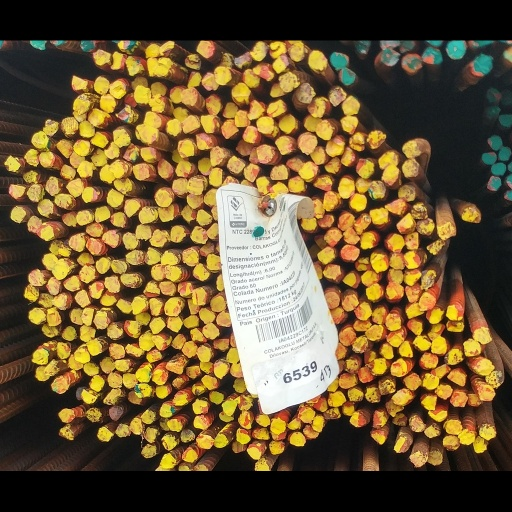dipstick: (378, 143, 402, 173), (398, 12, 422, 41), (469, 14, 493, 42), (114, 71, 138, 98), (368, 250, 393, 275), (124, 15, 146, 43), (366, 102, 388, 130), (296, 108, 317, 137), (135, 98, 160, 122), (321, 177, 345, 202), (230, 49, 253, 75), (401, 114, 423, 141), (306, 9, 327, 37), (274, 112, 297, 137), (339, 64, 362, 89), (395, 203, 418, 228), (250, 0, 272, 26), (326, 53, 348, 79), (112, 100, 131, 130), (337, 159, 356, 189), (339, 86, 360, 113), (354, 137, 375, 164), (118, 121, 141, 145), (87, 79, 110, 103), (109, 140, 131, 165), (146, 61, 168, 86), (460, 193, 482, 218), (471, 337, 493, 362), (325, 112, 346, 138), (367, 164, 388, 190), (385, 226, 406, 252), (298, 143, 318, 170), (383, 187, 410, 207), (420, 7, 443, 30), (56, 454, 78, 478), (251, 26, 275, 48), (131, 143, 152, 168), (198, 86, 219, 111), (322, 221, 343, 246), (256, 121, 276, 147), (384, 322, 404, 348), (59, 87, 78, 114), (206, 149, 225, 176), (348, 181, 370, 204), (378, 8, 400, 31), (384, 288, 406, 311), (178, 193, 199, 217), (266, 68, 287, 92), (393, 467, 414, 491), (109, 45, 129, 70), (277, 85, 297, 110), (402, 140, 422, 165), (337, 242, 362, 262), (352, 205, 372, 230), (51, 259, 70, 285), (247, 70, 266, 96), (203, 62, 222, 88), (478, 451, 497, 477), (438, 212, 456, 239), (308, 126, 330, 148), (385, 343, 407, 365), (30, 107, 51, 130), (208, 300, 229, 323), (69, 39, 92, 60), (255, 89, 276, 112), (330, 12, 351, 35), (443, 1, 464, 24), (446, 389, 467, 412), (36, 214, 56, 238), (154, 175, 174, 199), (194, 463, 214, 487), (187, 160, 207, 184), (92, 42, 112, 66), (241, 32, 261, 56), (90, 126, 109, 151), (78, 265, 97, 290), (92, 319, 111, 344), (180, 52, 199, 77), (200, 35, 219, 60), (296, 50, 315, 75), (306, 65, 325, 90), (156, 138, 174, 164), (315, 92, 333, 118), (120, 275, 142, 296), (56, 435, 78, 456), (349, 440, 370, 462), (278, 38, 300, 59), (300, 86, 322, 107), (378, 130, 399, 152), (397, 170, 418, 192), (387, 250, 408, 272), (363, 290, 385, 311), (408, 485, 429, 507), (106, 334, 126, 357), (155, 20, 175, 43), (272, 16, 292, 39), (317, 243, 337, 266), (340, 272, 360, 295), (402, 246, 422, 269), (178, 113, 195, 140), (99, 63, 118, 87), (287, 1, 306, 25), (354, 310, 373, 334), (341, 298, 360, 322), (3, 133, 21, 158), (55, 115, 73, 140), (227, 136, 245, 161), (242, 145, 260, 170), (66, 161, 83, 187), (339, 123, 356, 149), (27, 316, 48, 337), (213, 31, 234, 52), (338, 32, 359, 53), (268, 165, 289, 186), (462, 355, 483, 376), (443, 365, 464, 386), (6, 168, 26, 190), (113, 164, 135, 184), (189, 221, 209, 243), (134, 52, 154, 74), (171, 73, 191, 95), (181, 88, 201, 110), (287, 159, 307, 181), (352, 159, 372, 181), (299, 209, 321, 229), (368, 198, 390, 218), (446, 312, 466, 334), (426, 335, 446, 357), (475, 407, 495, 429), (192, 264, 211, 287), (123, 330, 142, 353), (50, 398, 69, 421), (241, 100, 260, 123), (336, 203, 355, 226), (403, 289, 422, 312), (338, 341, 357, 364), (122, 187, 140, 211), (164, 304, 182, 328), (137, 346, 155, 370), (93, 8, 111, 32), (167, 52, 185, 76), (420, 271, 436, 298), (222, 69, 239, 94), (108, 10, 125, 35), (451, 413, 468, 438), (137, 196, 157, 217), (77, 337, 97, 358), (327, 415, 348, 435), (140, 125, 160, 146), (142, 82, 163, 102), (128, 41, 149, 61), (148, 46, 168, 67), (233, 12, 254, 32), (269, 46, 289, 67), (411, 348, 432, 368), (419, 369, 439, 390), (369, 376, 389, 397), (392, 413, 413, 433), (474, 377, 495, 397), (181, 246, 200, 268), (165, 377, 184, 399), (171, 162, 190, 184), (174, 140, 193, 162), (234, 115, 253, 137), (312, 159, 334, 178), (410, 191, 429, 213), (322, 264, 341, 286), (403, 271, 422, 293), (421, 393, 440, 415), (484, 391, 503, 413), (384, 426, 406, 445), (443, 448, 462, 470), (370, 460, 389, 482), (86, 233, 104, 256), (28, 270, 46, 293), (44, 317, 62, 340), (165, 92, 183, 115), (418, 299, 436, 322), (324, 297, 342, 320), (351, 349, 369, 372), (398, 355, 416, 378), (403, 395, 421, 418), (82, 171, 99, 195), (54, 355, 71, 379), (211, 379, 228, 403), (238, 439, 255, 463), (205, 251, 222, 275), (307, 187, 324, 211), (45, 159, 61, 184), (132, 300, 148, 325), (95, 457, 115, 477), (188, 340, 208, 360), (201, 335, 221, 355), (199, 396, 219, 416), (268, 473, 288, 493), (285, 137, 305, 157), (269, 146, 289, 166), (357, 227, 377, 247), (371, 314, 387, 339), (378, 402, 398, 422), (465, 416, 485, 436), (482, 54, 502, 74), (8, 196, 27, 217), (83, 215, 104, 234), (41, 252, 60, 273), (126, 247, 145, 268), (142, 285, 161, 306), (61, 337, 80, 358), (85, 435, 104, 456), (138, 478, 159, 497), (190, 444, 211, 463), (288, 463, 307, 484), (196, 239, 217, 258), (183, 14, 202, 35), (196, 0, 215, 21), (415, 211, 436, 230), (425, 315, 444, 336), (68, 228, 86, 250), (22, 289, 40, 311), (144, 245, 162, 267), (98, 375, 116, 397), (180, 479, 198, 501), (300, 456, 322, 474), (215, 321, 233, 343), (358, 272, 380, 290), (423, 450, 441, 472), (102, 224, 119, 247), (107, 175, 124, 198), (149, 224, 166, 247), (99, 148, 116, 171), (177, 283, 194, 306), (74, 362, 91, 385), (268, 446, 285, 469), (298, 434, 315, 457), (197, 138, 214, 161), (220, 92, 237, 115), (348, 110, 365, 133), (404, 225, 421, 248), (145, 19, 160, 45), (78, 142, 94, 166), (77, 95, 96, 115), (157, 196, 177, 215), (124, 358, 144, 377), (190, 426, 210, 445), (184, 385, 204, 404), (182, 324, 202, 343), (185, 181, 205, 200), (405, 311, 424, 331), (365, 337, 384, 357), (339, 394, 359, 413), (345, 410, 365, 429), (25, 170, 43, 191), (36, 187, 54, 208), (72, 64, 90, 85), (94, 196, 112, 217), (158, 283, 176, 304), (86, 355, 104, 376), (31, 365, 49, 386), (43, 378, 61, 399), (195, 109, 213, 130), (172, 125, 190, 146), (324, 138, 342, 159), (385, 269, 403, 290), (485, 113, 506, 131), (148, 303, 163, 328), (25, 206, 42, 228), (42, 91, 59, 113), (60, 145, 77, 167), (39, 130, 56, 152), (23, 128, 40, 150), (169, 218, 186, 240), (234, 82, 251, 104), (159, 0, 176, 22), (390, 377, 407, 399), (364, 410, 381, 432), (459, 461, 476, 483), (191, 292, 207, 315), (88, 396, 104, 419), (196, 360, 212, 383), (310, 444, 326, 467), (427, 437, 450, 453), (54, 181, 73, 200), (161, 249, 180, 268), (160, 466, 179, 485), (133, 406, 152, 425), (184, 306, 203, 325), (120, 60, 139, 79), (142, 2, 161, 21), (318, 205, 337, 224), (426, 236, 445, 255), (420, 419, 439, 438), (73, 117, 91, 137), (134, 218, 152, 238), (103, 280, 121, 300), (80, 315, 95, 339), (107, 433, 125, 453), (159, 489, 177, 509), (215, 462, 230, 486), (106, 394, 124, 414), (107, 359, 125, 379), (171, 416, 191, 434), (219, 425, 237, 445), (246, 481, 264, 501), (225, 363, 240, 387), (194, 200, 212, 220), (209, 124, 224, 148), (248, 124, 263, 148), (342, 222, 360, 242), (489, 144, 509, 162), (109, 202, 126, 223), (122, 227, 139, 248), (149, 265, 166, 286), (379, 358, 396, 379), (359, 386, 376, 407), (430, 384, 451, 401), (87, 286, 103, 308), (430, 350, 446, 372), (77, 250, 95, 269), (110, 258, 128, 277), (82, 380, 100, 399), (166, 448, 185, 466), (146, 366, 164, 385), (215, 14, 234, 32), (355, 256, 374, 274), (90, 108, 107, 128), (64, 278, 81, 298), (73, 296, 90, 316), (67, 372, 84, 392), (81, 412, 98, 432), (143, 459, 160, 479), (121, 393, 138, 413), (152, 389, 169, 409), (150, 348, 167, 368), (166, 327, 183, 347), (251, 459, 271, 476), (406, 330, 423, 350), (178, 459, 195, 479), (104, 120, 120, 141), (95, 256, 111, 277), (116, 306, 132, 327), (33, 385, 49, 406), (129, 446, 143, 470), (160, 428, 176, 449), (149, 328, 165, 349), (181, 356, 197, 377), (232, 400, 248, 421), (371, 438, 385, 462), (472, 470, 488, 491), (427, 485, 443, 506), (486, 159, 502, 180), (46, 280, 61, 302), (236, 459, 251, 481), (187, 35, 202, 57), (409, 444, 424, 466), (256, 159, 269, 184), (154, 409, 172, 427), (198, 318, 216, 336), (229, 383, 247, 401), (115, 454, 132, 473), (134, 388, 151, 407), (269, 1, 286, 20), (329, 317, 346, 336), (428, 333, 447, 350), (205, 215, 219, 238), (76, 200, 92, 220), (140, 437, 156, 457), (255, 441, 271, 461), (321, 436, 341, 452), (445, 331, 465, 347), (435, 407, 451, 427), (352, 331, 373, 346), (344, 377, 359, 398), (70, 316, 84, 338), (204, 174, 218, 196), (37, 299, 54, 317), (113, 377, 131, 394), (363, 367, 380, 385), (483, 75, 501, 92), (61, 202, 77, 221), (40, 337, 59, 353), (237, 422, 253, 441), (252, 496, 271, 512), (126, 413, 141, 433), (22, 154, 39, 171), (165, 268, 182, 285), (208, 416, 225, 433), (213, 353, 230, 370), (312, 424, 328, 442), (214, 276, 227, 298), (70, 132, 85, 151), (218, 441, 237, 456), (341, 427, 356, 446), (171, 348, 185, 368), (59, 238, 72, 259), (134, 323, 151, 339), (481, 131, 497, 148), (171, 400, 189, 415), (497, 124, 511, 143), (52, 300, 68, 316), (231, 475, 247, 491), (198, 381, 215, 396), (392, 443, 407, 460), (49, 236, 62, 255), (288, 447, 303, 463), (71, 82, 88, 96), (99, 299, 116, 313), (74, 410, 87, 428), (499, 85, 512, 102)
